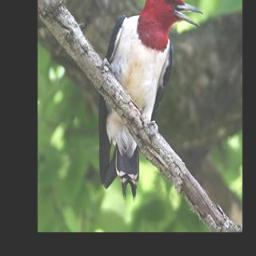Woodpecker: (94, 0, 206, 202)
